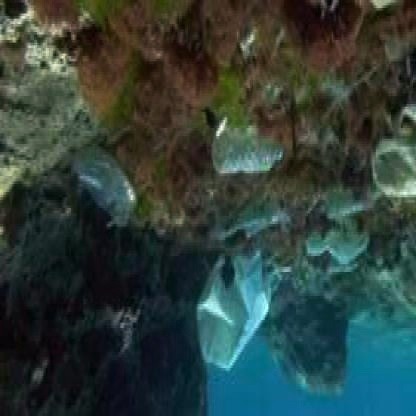pbottle: (213, 101, 290, 190)
plastic: (188, 250, 289, 386), (64, 141, 138, 251), (374, 85, 416, 191)
